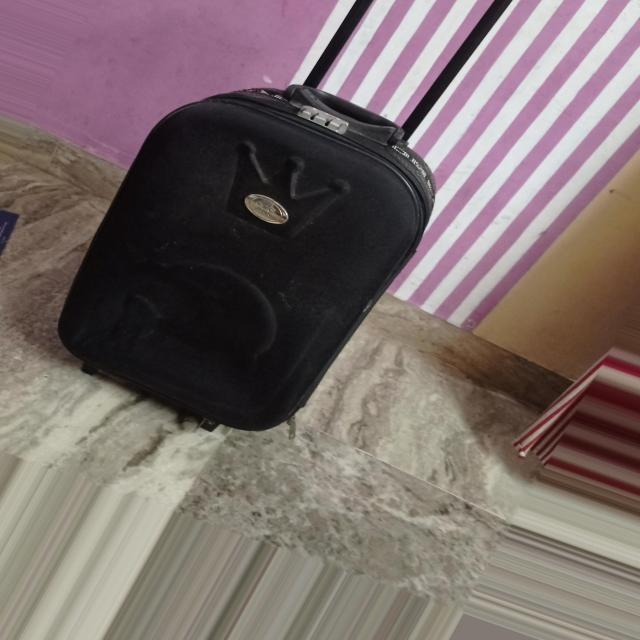Suitcase: (40, 0, 526, 451)
